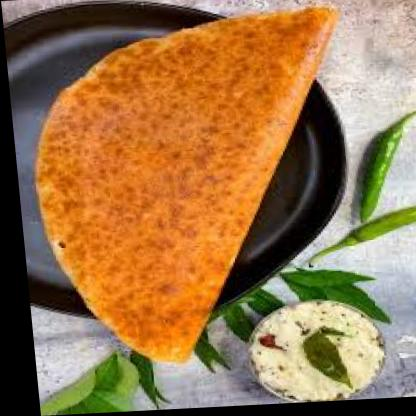dosa: (21, 10, 359, 367)
